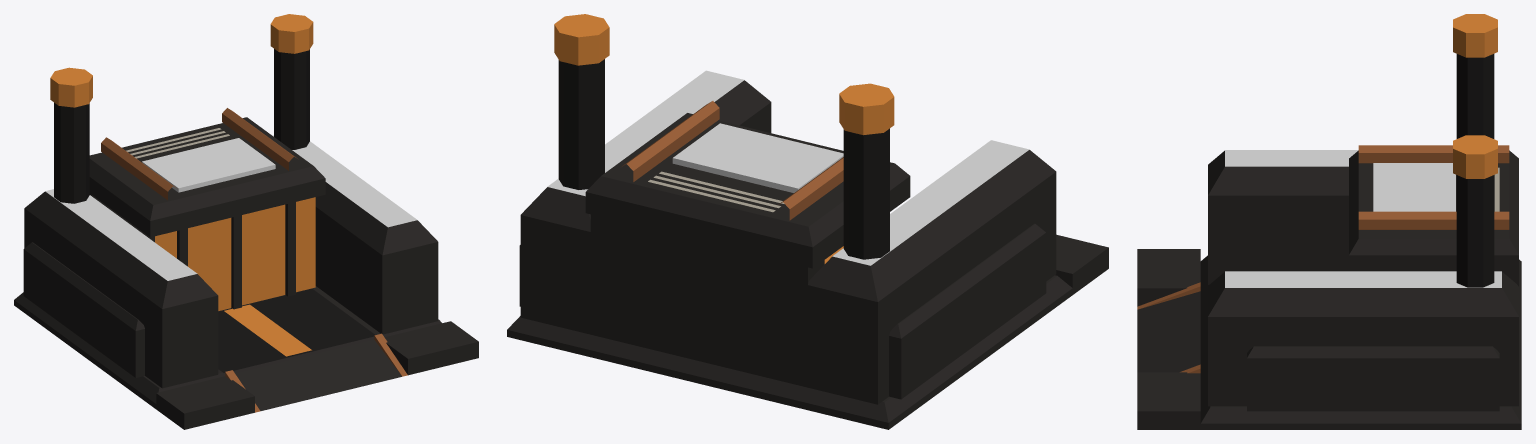
File: str_t3_fac_land.f1d4a501.glb
3 renders of one model, left to right at view 1: azimuth 30°, elevation 25°; view 2: azimuth 150°, elevation 25°; view 3: azimuth 270°, elevation 25°, orthographic. The views are drawn at different scales.
Parts seen in each view (by area): view 1: lod0; view 2: lod0; view 3: lod0.
Part boxes in pixels (x1=…): lod0: x1=14, y1=14, x2=478, y2=429; lod0: x1=507, y1=14, x2=1108, y2=429; lod0: x1=1137, y1=14, x2=1521, y2=429.
Size of what is drawn, in the model's own units: 4.94 by 3.75 by 4.94.
